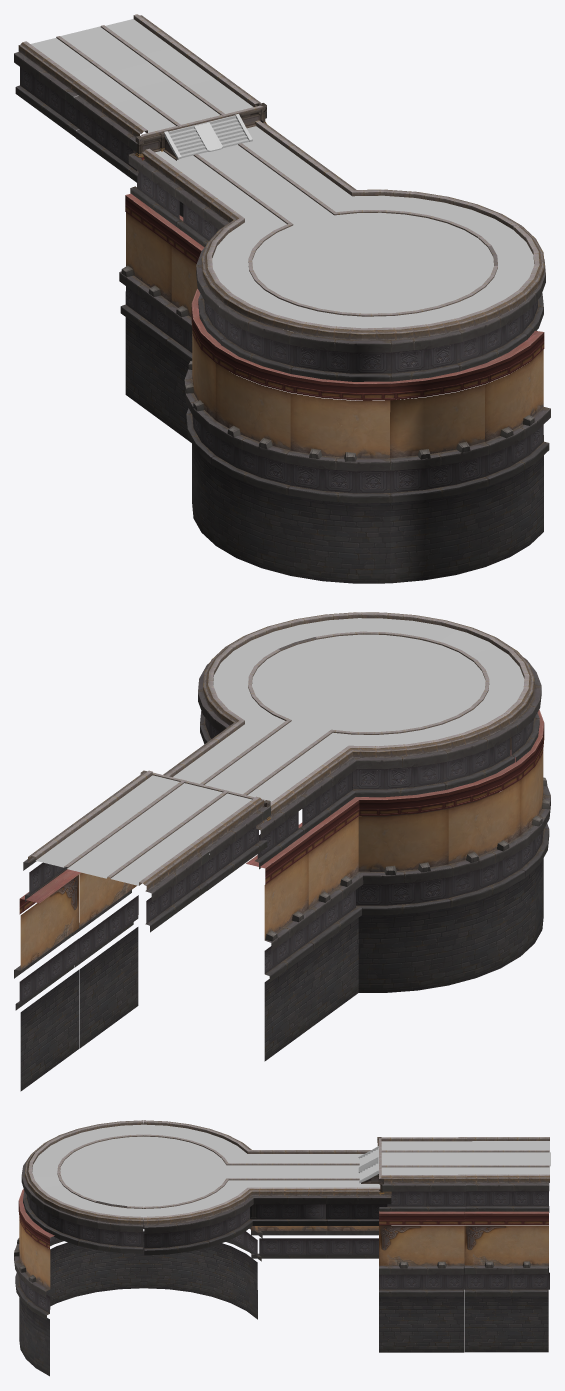
The picture shows the model from 3 angles, top to bottom: view 1: azimuth 30°, elevation 25°; view 2: azimuth 150°, elevation 25°; view 3: azimuth 270°, elevation 25°; orthographic projection. The views are drawn at different scales.
Visible parts, largest first — view 1: Group006, Group009; view 2: Group009, Group006; view 3: Group009, Group006.
Boxes of the visible parts, left/top/right/bottom form: Group006: left=119, top=193, right=550, bottom=583; Group009: left=14, top=14, right=545, bottom=381; Group009: left=14, top=618, right=541, bottom=1091; Group006: left=225, top=612, right=550, bottom=1061; Group009: left=21, top=1120, right=550, bottom=1352; Group006: left=14, top=1120, right=378, bottom=1376.
Bounding box in the file's own units: 978 × 783 × 2062.
